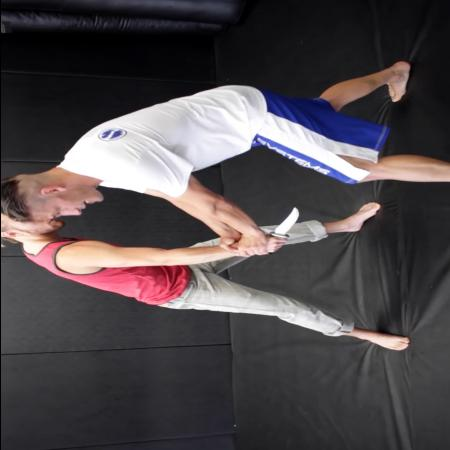long weapon: (264, 205, 302, 257)
